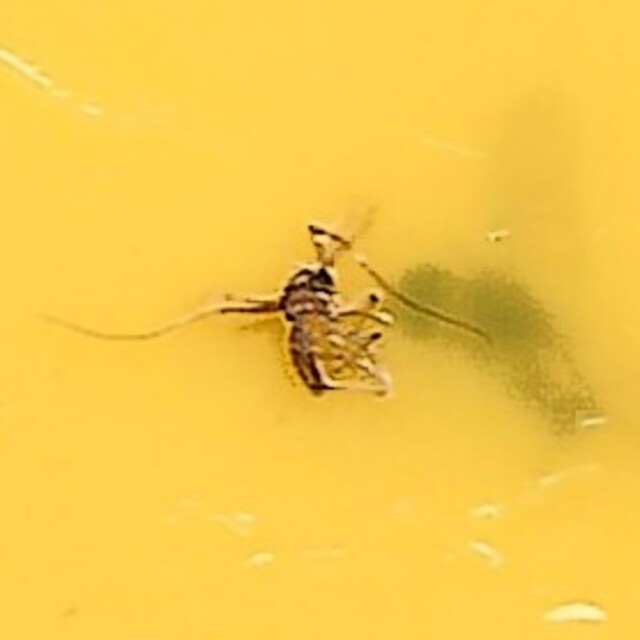Nematocera: (230, 228, 410, 412)
